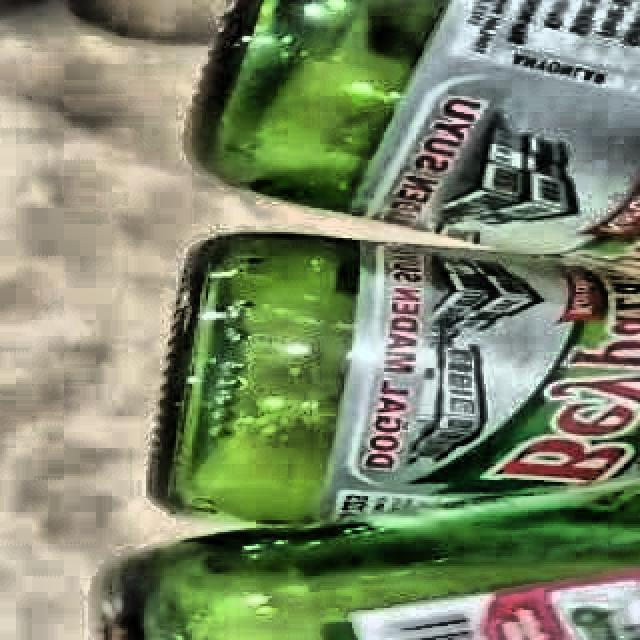glass: (93, 0, 640, 640)
